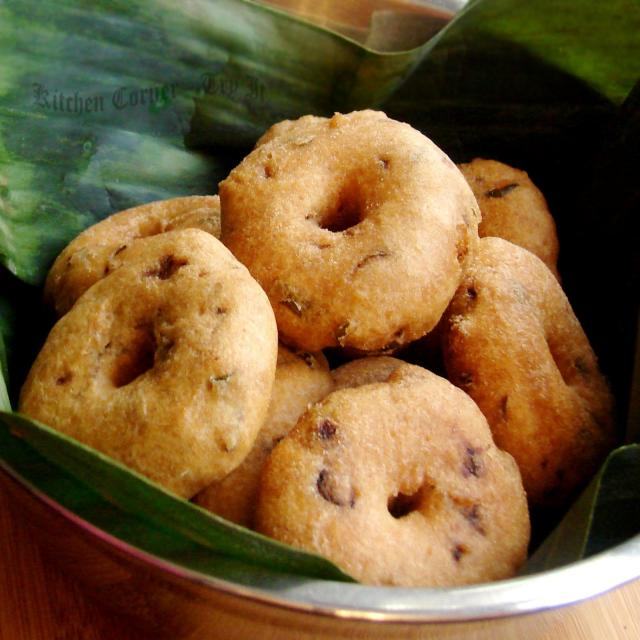Vada: (14, 228, 333, 528), (216, 110, 484, 360), (250, 358, 532, 591), (434, 236, 622, 545)
